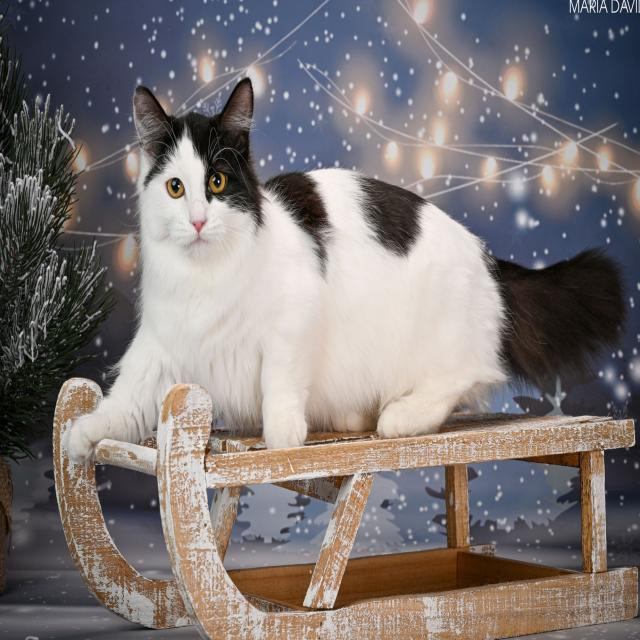Munchkin: (67, 70, 628, 465)
